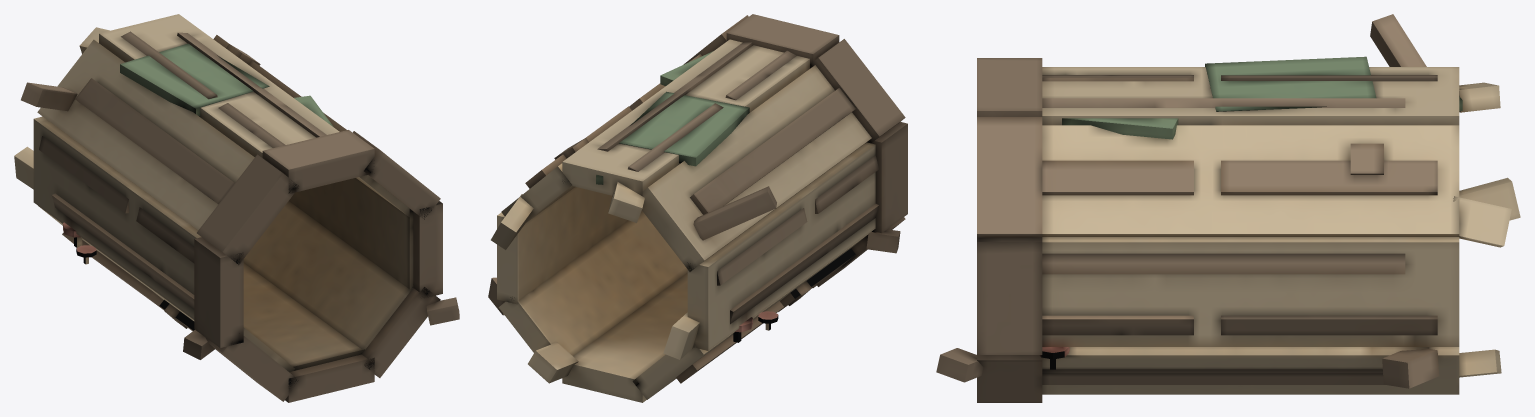
The model's file is hollowlog.glb.
The picture shows the model from 3 angles, left to right: view 1: azimuth 30°, elevation 25°; view 2: azimuth 150°, elevation 25°; view 3: azimuth 270°, elevation 25°; orthographic projection. The views are drawn at different scales.
Parts seen in each view (by area): view 1: hollowlog; view 2: hollowlog; view 3: hollowlog.
Part boxes in pixels (left/top/right/bottom): hollowlog: left=14, top=14, right=459, bottom=402; hollowlog: left=488, top=14, right=907, bottom=402; hollowlog: left=936, top=14, right=1520, bottom=402.
Bounding box in the file's own units: 7.45 × 5.94 × 10.78.
Materials: 4 (4 with a texture image).
